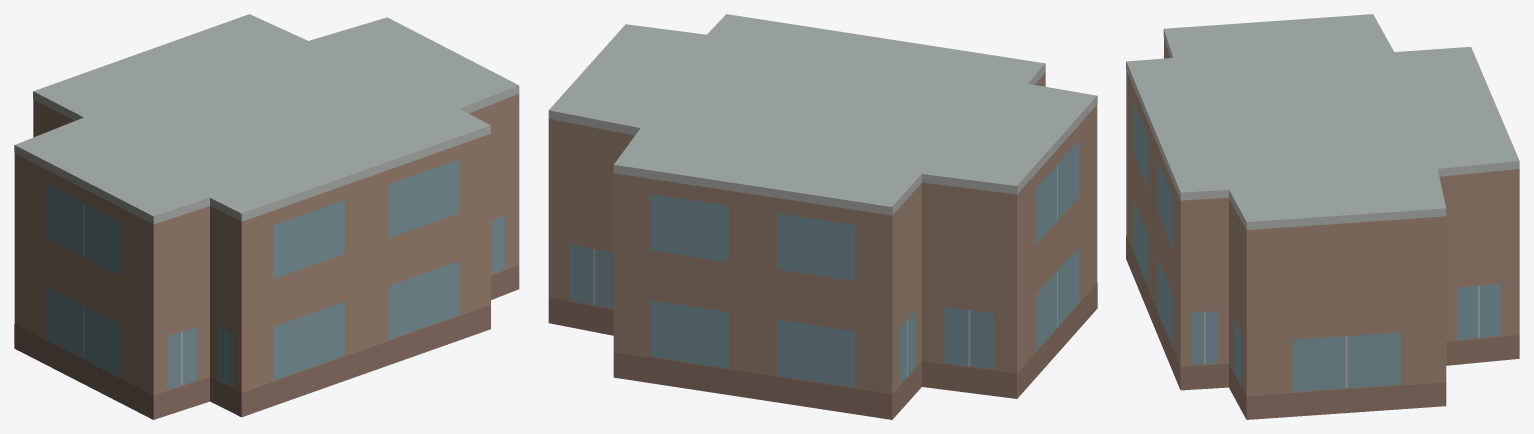
File: survey-upis-32656991.glb
3 renders of one model, left to right at view 1: azimuth 30°, elevation 25°; view 2: azimuth 150°, elevation 25°; view 3: azimuth 270°, elevation 25°, orthographic. The views are drawn at different scales.
Parts seen in each view (by area): view 1: survey-upis-32656991.tmp; view 2: survey-upis-32656991.tmp; view 3: survey-upis-32656991.tmp.
Boxes of the visible parts, left/top/right/bottom form: survey-upis-32656991.tmp: left=14, top=14, right=519, bottom=419; survey-upis-32656991.tmp: left=548, top=14, right=1097, bottom=419; survey-upis-32656991.tmp: left=1126, top=14, right=1519, bottom=419.
Bounding box in the file's own units: 13.8 × 6.1 × 11.02.
